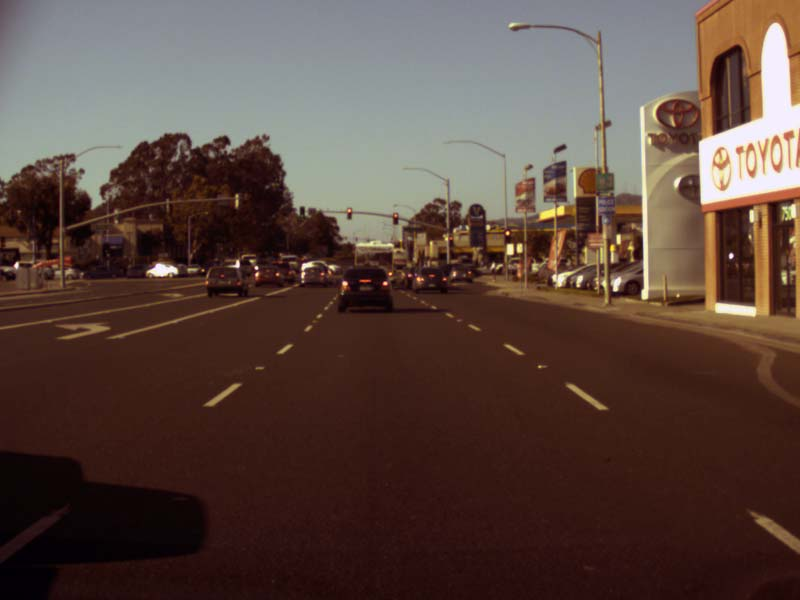Green: (300, 208, 303, 218)
Red: (504, 229, 511, 242), (393, 212, 398, 224), (347, 208, 351, 219), (449, 235, 453, 245)
